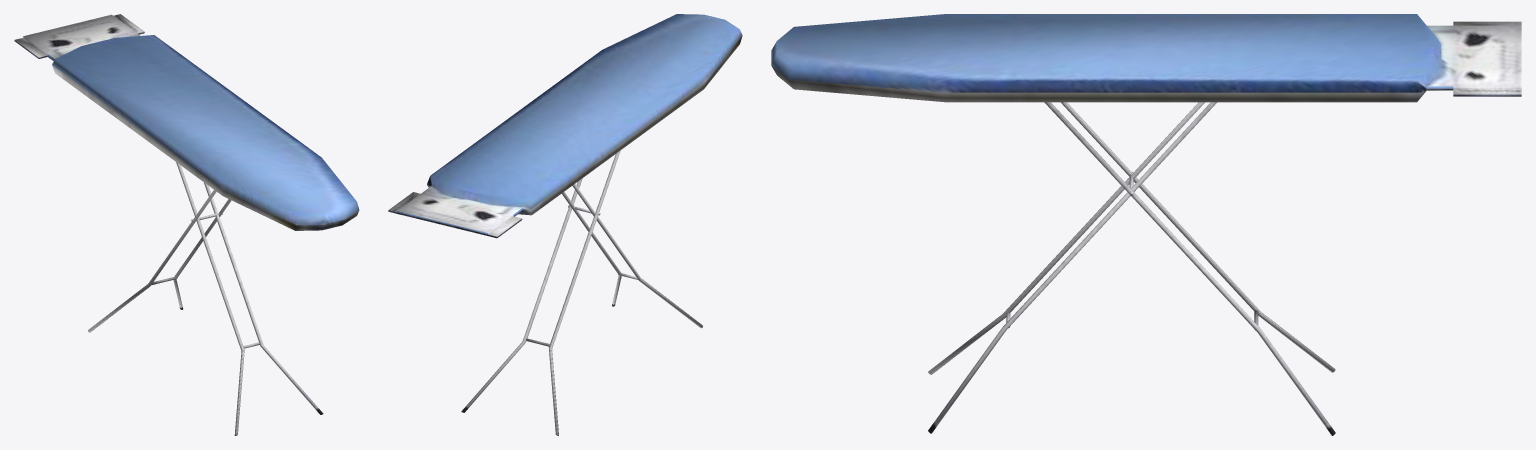
The model's file is ironing_board.FBX.
3 renders of one model, left to right at view 1: azimuth 30°, elevation 25°; view 2: azimuth 150°, elevation 25°; view 3: azimuth 270°, elevation 25°, orthographic. The views are drawn at different scales.
Parts seen in each view (by area): view 1: Plane009; view 2: Plane009; view 3: Plane009.
Part boxes in pixels (box(x1,y1,x2,y2)): Plane009: box(14, 14, 359, 435); Plane009: box(388, 14, 742, 435); Plane009: box(771, 14, 1521, 435).
Size of the model in its own units: 24.79 by 56.37 by 108.
